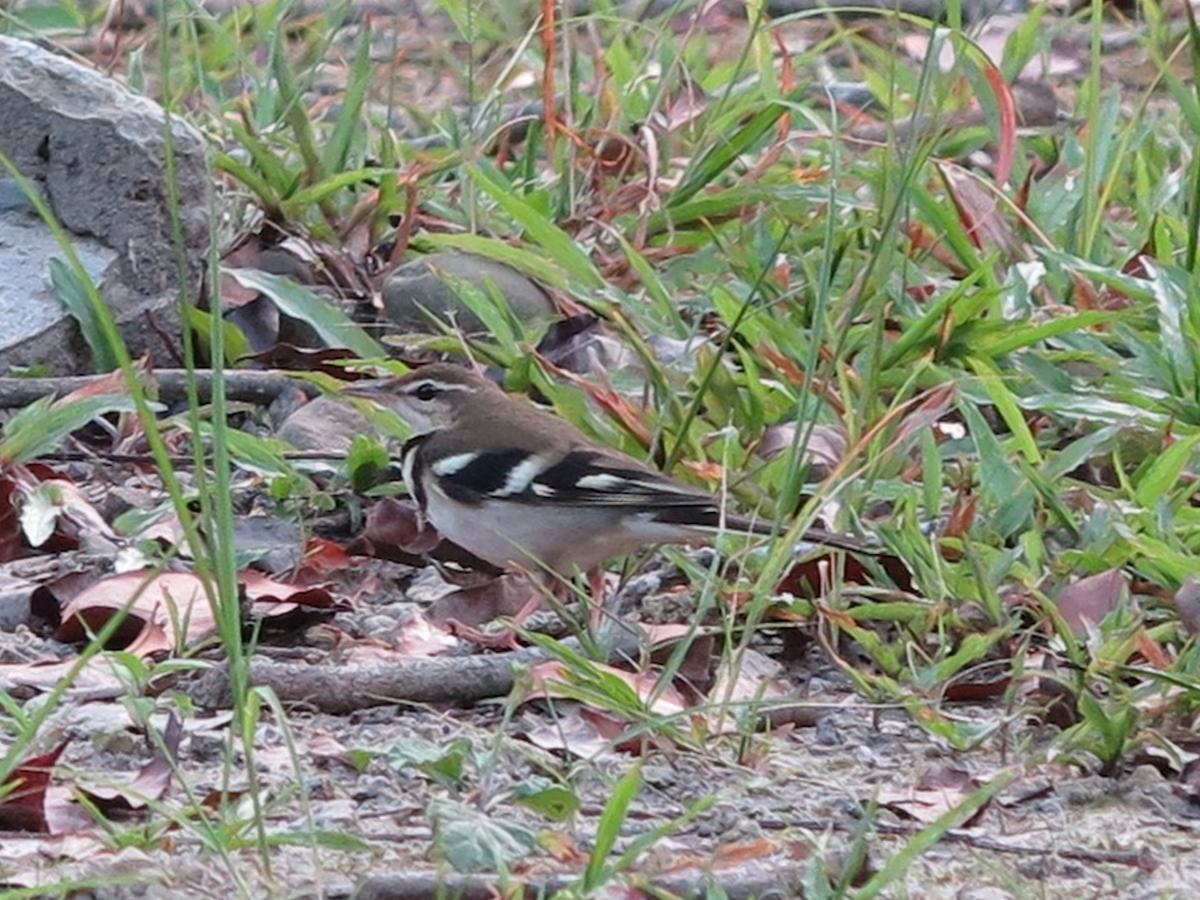wagtail: (368, 351, 743, 606)
